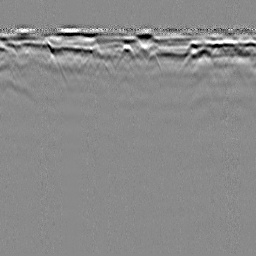cavity: (122, 42, 133, 58)
